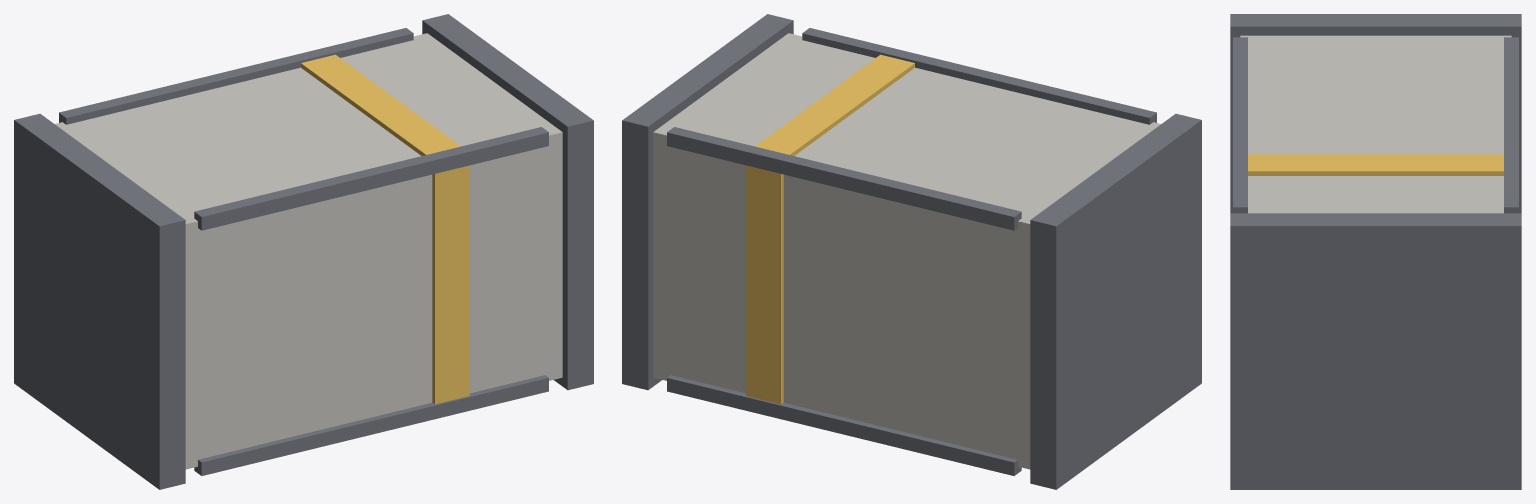
File: cargo_canister_cuboid.glb
The picture shows the model from 3 angles, left to right: view 1: azimuth 30°, elevation 25°; view 2: azimuth 150°, elevation 25°; view 3: azimuth 270°, elevation 25°; orthographic projection.
Bounding box in the file's own units: 1 × 0.58 × 0.58.
